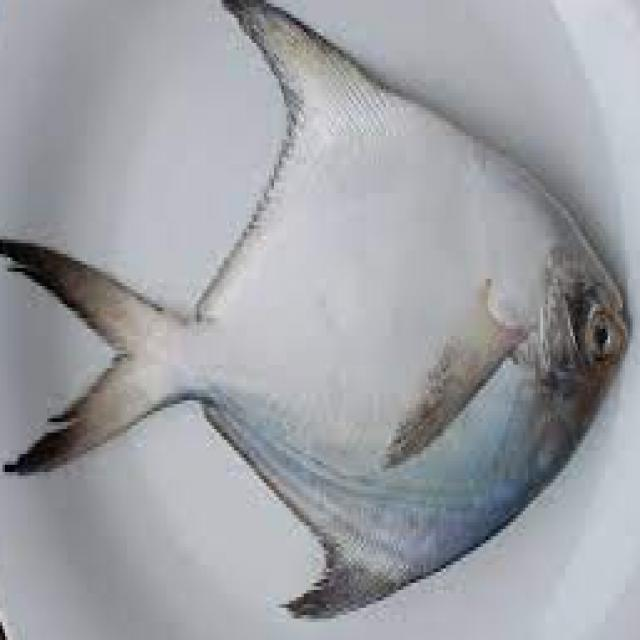fish: (2, 0, 639, 637)
